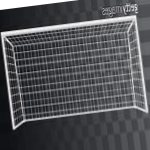goals: (2, 14, 150, 127)
